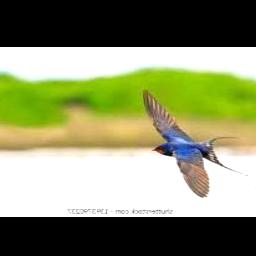Swallow: (143, 88, 250, 198)
